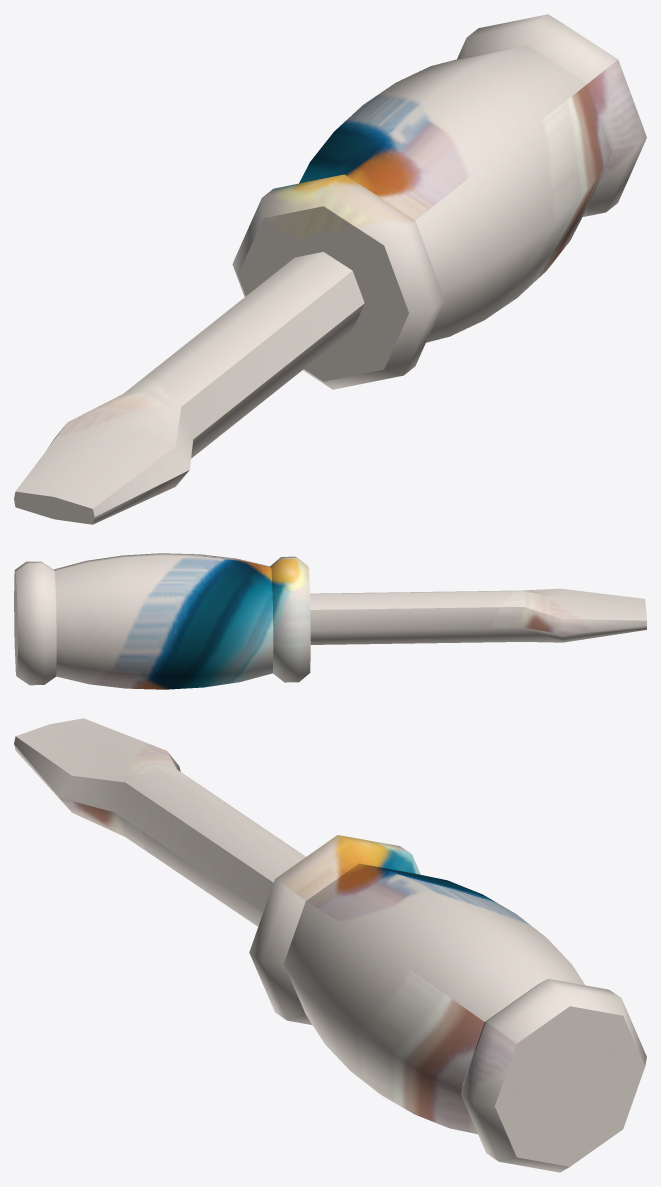
The model's file is driver.fbx.
3 views of the same model, one above another, from view 1: azimuth 30°, elevation 25°; view 2: azimuth 150°, elevation 25°; view 3: azimuth 270°, elevation 25° (orthographic). The views are drawn at different scales.
Visible parts, largest first — view 1: driver; view 2: driver; view 3: driver.
Part boxes in pixels (x1,y1,x2,y2): driver: (14, 14, 646, 524); driver: (14, 553, 646, 689); driver: (14, 718, 646, 1172).
Size of the model in its own units: 0.4383 by 0.1099 by 0.3076.
